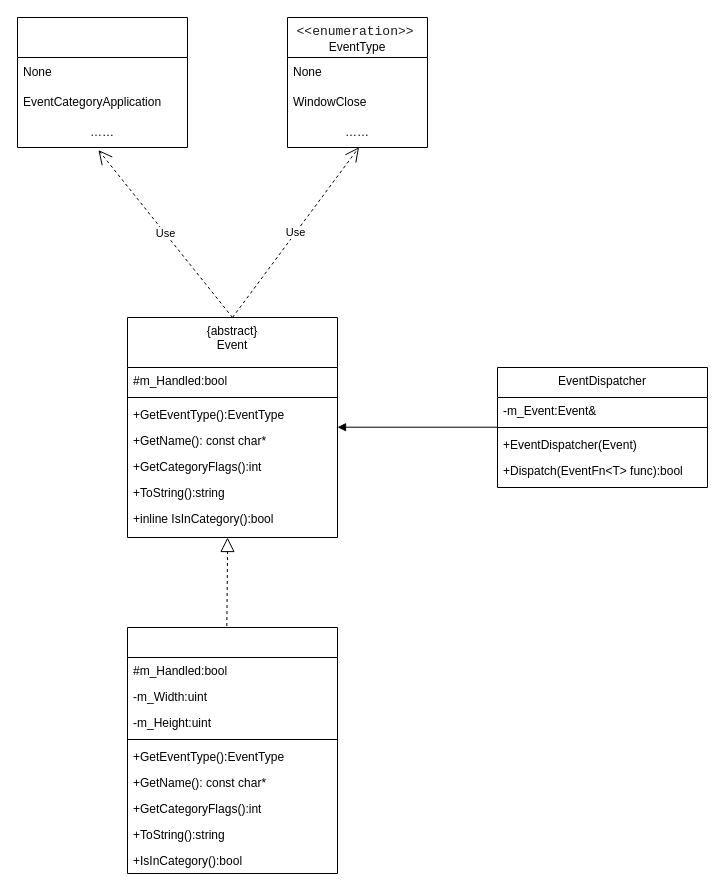
This 725x894 diagram has some shape labels left out. The shapes that lost their labels are listed below. From the top down, each one's box as (x1, y1, x2, y2) in pixels, then its label:
(16, 16, 188, 148): <<enumeration>> EventCategory
(126, 626, 338, 874): WindowResizeEvent
